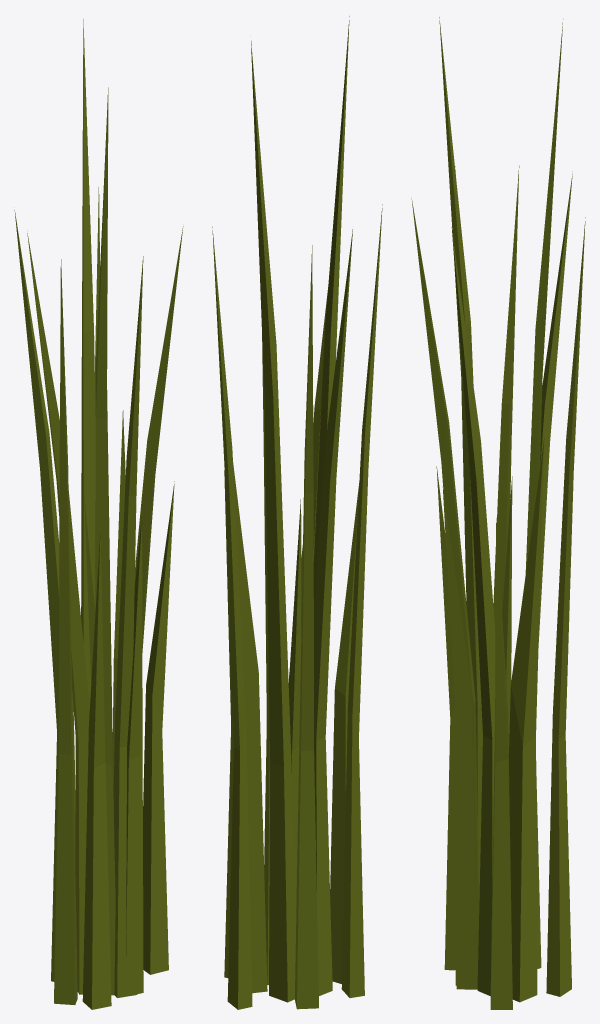
The model's file is High Grass_3.fbx.
3 views of the same model, side by side, from view 1: azimuth 30°, elevation 25°; view 2: azimuth 150°, elevation 25°; view 3: azimuth 270°, elevation 25° (orthographic). The views are drawn at different scales.
Visible parts, largest first — view 1: High Grass_3; view 2: High Grass_3; view 3: High Grass_3.
Boxes of the visible parts, left/top/right/bottom form: High Grass_3: left=14, top=19, right=183, bottom=1009; High Grass_3: left=212, top=16, right=382, bottom=1009; High Grass_3: left=411, top=17, right=585, bottom=1009.
Bounding box in the file's own units: 0.4619 × 3.05 × 0.498.
